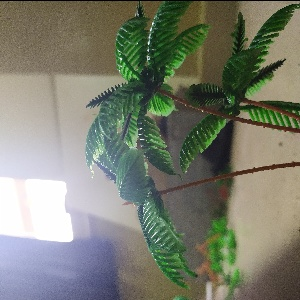plant: (88, 121, 205, 295), (173, 13, 300, 164), (83, 2, 204, 137)
